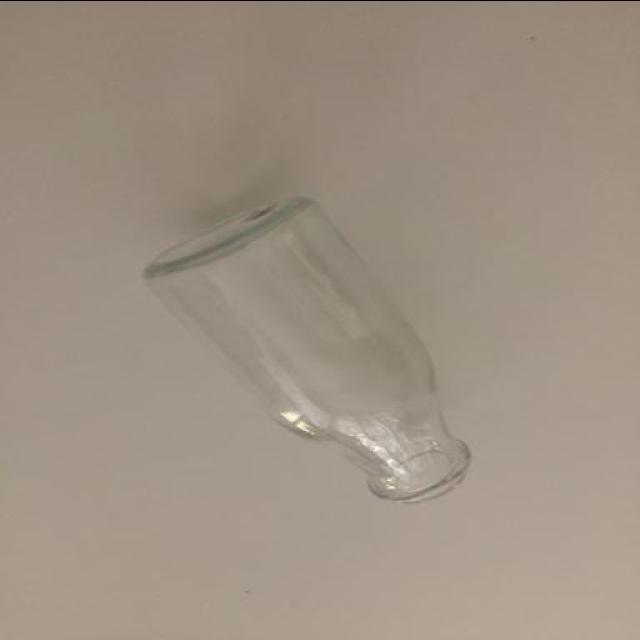Glass Bottle: (140, 188, 480, 506)
